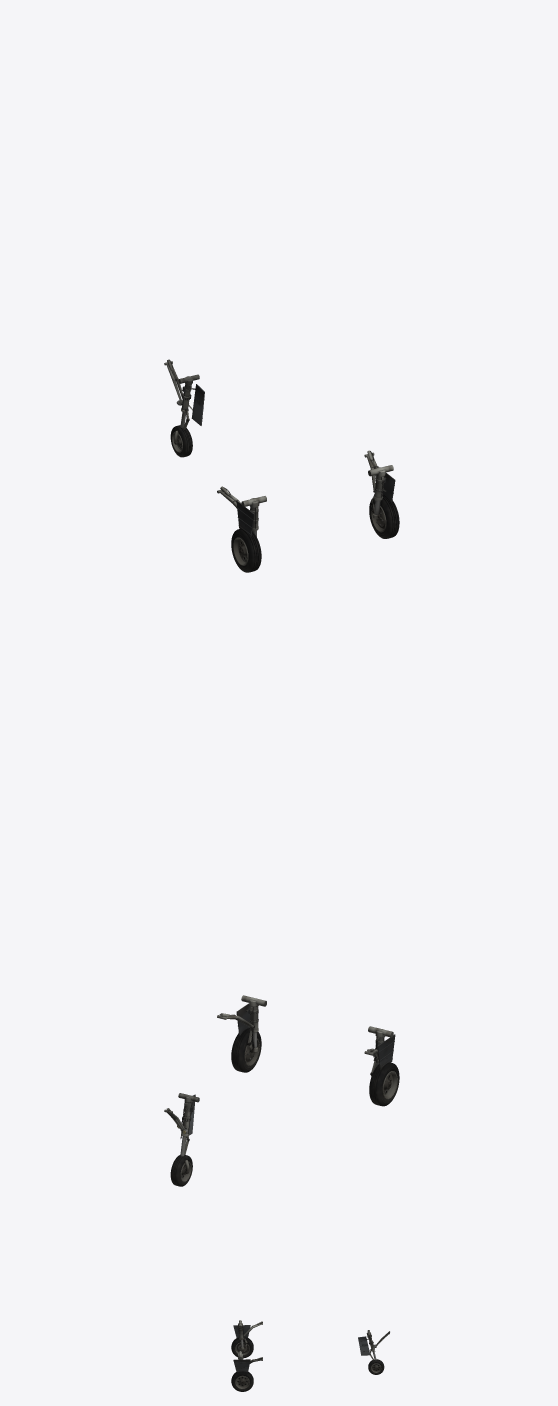
The model's file is f15e_gear.glb.
3 renders of one model, top to bottom at view 1: azimuth 30°, elevation 25°; view 2: azimuth 150°, elevation 25°; view 3: azimuth 270°, elevation 25°, orthographic. The views are drawn at different scales.
Visible parts, largest first — view 1: gear_m_l, gear_m_r, gear_n; view 2: gear_m_l, gear_m_r, gear_n; view 3: gear_m_r, gear_m_l, gear_n.
Part boxes in pixels (x1,y1,x2,y2): gear_m_l: (231, 496, 266, 572); gear_m_r: (368, 465, 399, 538); gear_n: (170, 374, 204, 457); gear_m_l: (368, 1026, 399, 1106); gear_m_r: (231, 995, 266, 1072); gear_n: (170, 1093, 199, 1186); gear_m_r: (231, 1351, 253, 1391); gear_m_l: (231, 1320, 253, 1358); gear_n: (358, 1330, 384, 1374).
Size of the model in its own units: 3.3 by 6.45 by 19.43.
Materials: 1 (1 with a texture image).
